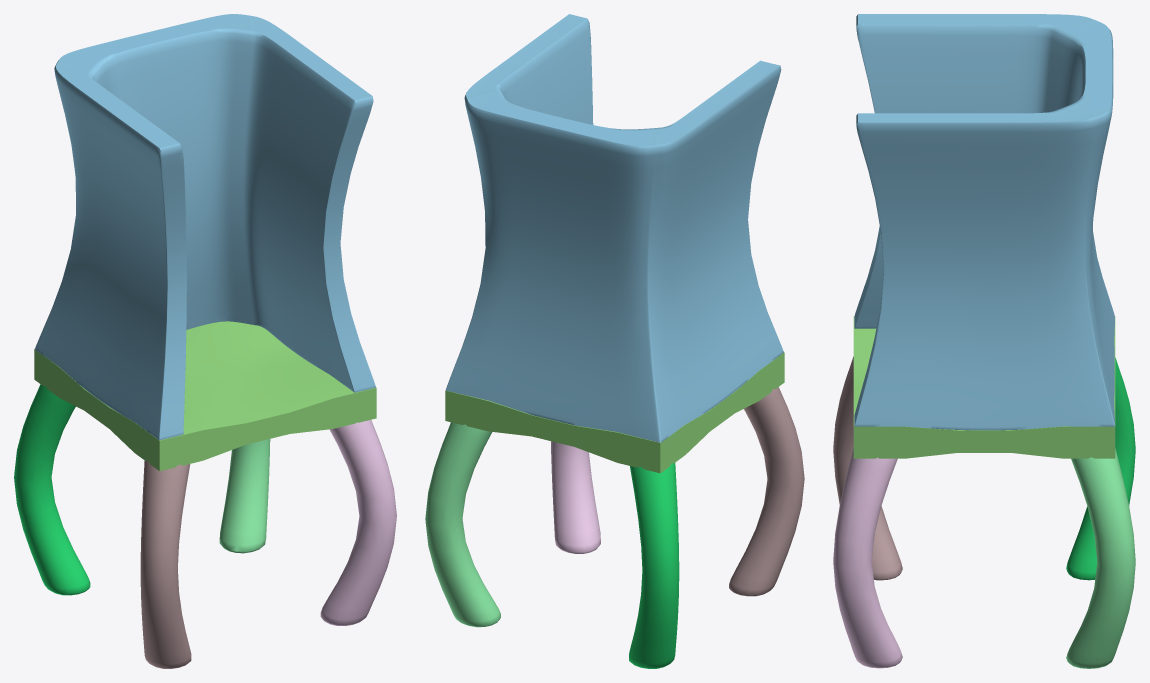
3 renders of one model, left to right at view 1: azimuth 30°, elevation 25°; view 2: azimuth 150°, elevation 25°; view 3: azimuth 270°, elevation 25°, orthographic. The views are drawn at different scales.
Visible parts, largest first — view 1: Object_2.005, Object_2, Object_2.001, Object_2.004, Object_2.003, Object_2.002; view 2: Object_2.005, Object_2, Object_2.002, Object_2.004, Object_2.003, Object_2.001; view 3: Object_2.005, Object_2, Object_2.002, Object_2.001, Object_2.004, Object_2.003.
Boxes of the visible parts, x1,y1,x2,y2 form: Object_2.005: (35, 14, 375, 440); Object_2: (34, 321, 376, 471); Object_2.001: (320, 420, 396, 625); Object_2.004: (140, 461, 191, 668); Object_2.003: (14, 384, 90, 595); Object_2.002: (219, 439, 270, 553); Object_2.005: (445, 14, 783, 442); Object_2: (445, 352, 784, 473); Object_2.002: (425, 422, 500, 627); Object_2.004: (729, 387, 804, 596); Object_2.003: (629, 463, 679, 668); Object_2.001: (551, 441, 600, 553); Object_2.005: (854, 14, 1115, 430); Object_2: (853, 316, 1115, 458); Object_2.002: (1066, 448, 1135, 668); Object_2.001: (833, 448, 902, 668); Object_2.004: (833, 356, 902, 580); Object_2.003: (1066, 357, 1135, 580).
Bounding box in the file's own units: 0.5001 × 1 × 0.5001.
